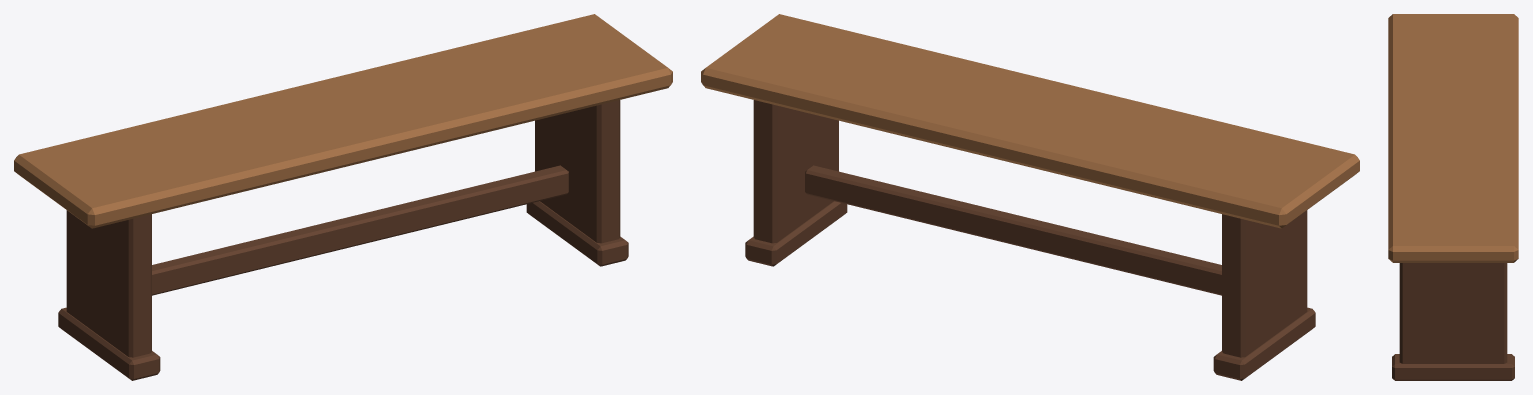
File: bench_wood.glb
3 views of the same model, side by side, from view 1: azimuth 30°, elevation 25°; view 2: azimuth 150°, elevation 25°; view 3: azimuth 270°, elevation 25° (orthographic). The views are drawn at different scales.
Parts seen in each view (by area): view 1: bench_wood; view 2: bench_wood; view 3: bench_wood.
Part boxes in pixels (x1,y1,x2,y2): bench_wood: [14, 14, 672, 380]; bench_wood: [701, 14, 1359, 380]; bench_wood: [1388, 14, 1518, 380].
Bounding box in the file's own units: 1.5 × 0.45 × 0.35.
